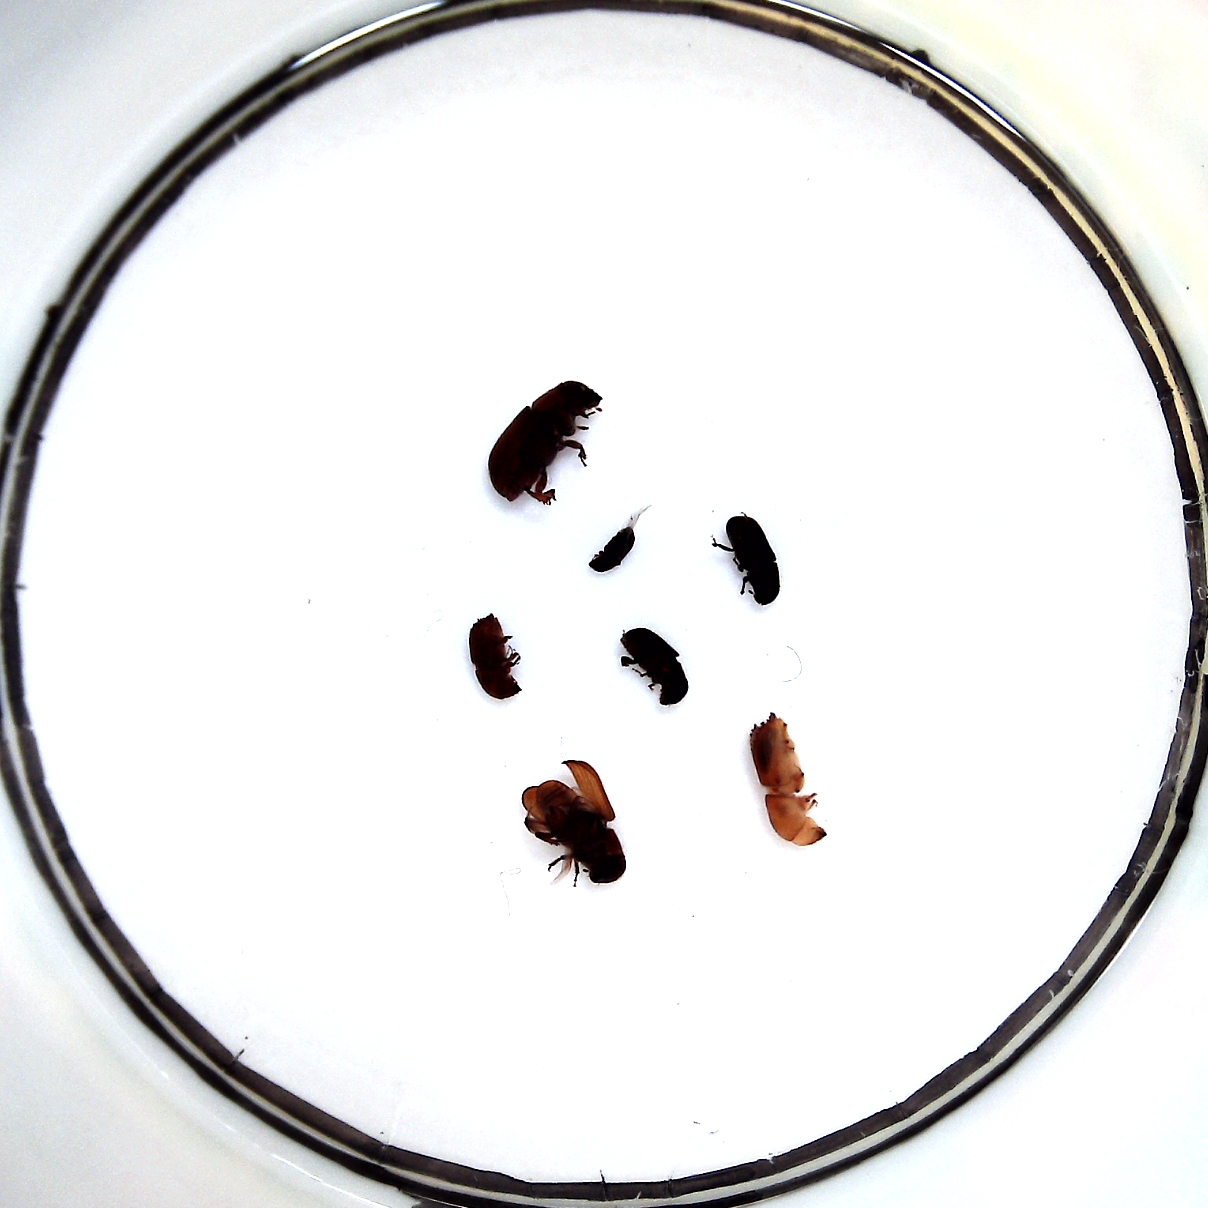Boerner: (750, 710, 827, 847)
Leconte: (488, 381, 603, 503), (519, 758, 625, 886)
armandi: (619, 627, 689, 705), (726, 516, 780, 604)
coleoptera: (589, 525, 635, 572)
linnaeus: (468, 611, 520, 700)
